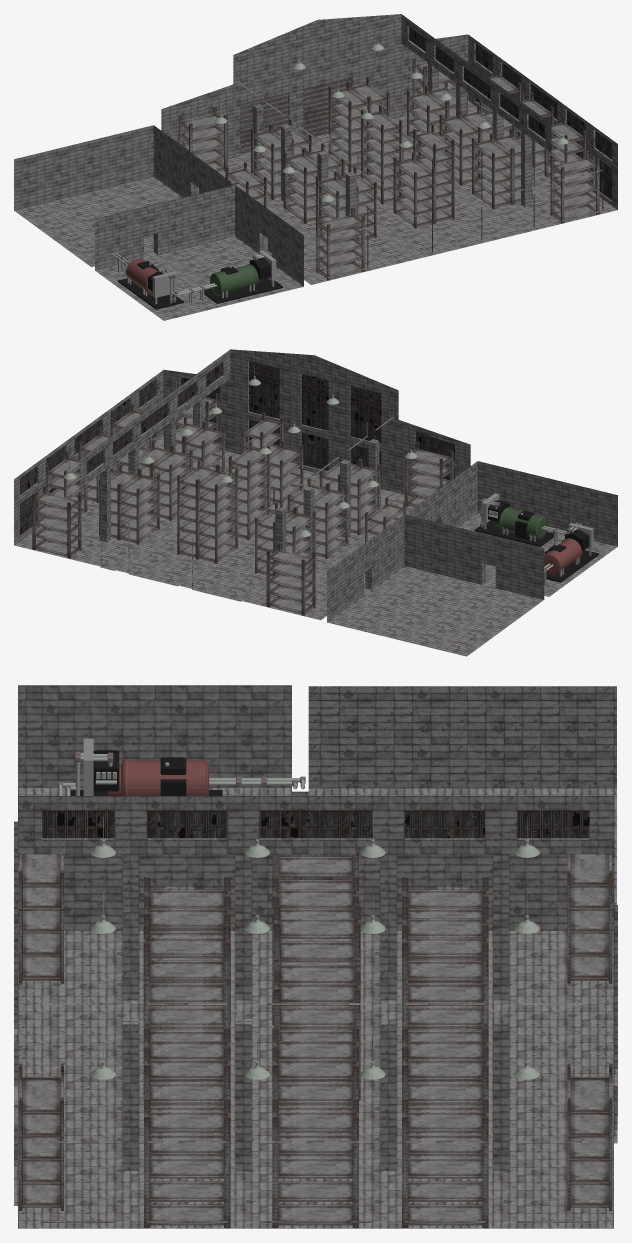
File: Eddy is genuinely unintelligent 222.glb
3 renders of one model, top to bottom at view 1: azimuth 30°, elevation 25°; view 2: azimuth 150°, elevation 25°; view 3: azimuth 270°, elevation 25°, orthographic. The views are drawn at different scales.
Parts seen in each view (by area): view 1: Warehouse-col.010, Generator-col.122, Warehouse-col.014, Generator-col.129, Generator-col.199, Warehouse-col.017, Generator-col.192, Generator-col.197, Warehouse-col.018, Warehouse-col.016, Warehouse-col.015, Shelving_Unit_Base_Tall-col.028 (+15 smaller); view 2: Warehouse-col.010, Generator-col.122, Generator-col.192, Warehouse-col.012, Generator-col.129, Warehouse-col.015, Warehouse-col.016, Generator-col.199, Warehouse-col.018, Warehouse-col.017, Shelving_Unit_Base_Tall-col.028, Shelving_Unit_Base_Small-col.072 (+14 smaller); view 3: Warehouse-col.010, Warehouse-col.012, Warehouse-col.014, Warehouse-col.013, Warehouse-col.011, Generator-col.192, Warehouse-col.016, Warehouse-col.018, Warehouse-col.017, Warehouse-col.015, Shelving_Unit_Base_Tall-col.029, Shelving_Unit_Small-col.294 (+74 smaller).
Part boxes in pixels (bbox=[...]): Warehouse-col.010: bbox=[14, 14, 617, 320]; Generator-col.122: bbox=[210, 264, 263, 295]; Warehouse-col.014: bbox=[521, 131, 531, 206]; Generator-col.129: bbox=[204, 278, 282, 303]; Generator-col.199: bbox=[118, 278, 183, 309]; Warehouse-col.017: bbox=[281, 124, 291, 201]; Generator-col.192: bbox=[126, 259, 157, 295]; Generator-col.197: bbox=[152, 271, 177, 297]; Warehouse-col.018: bbox=[345, 172, 356, 238]; Warehouse-col.016: bbox=[252, 103, 263, 179]; Warehouse-col.015: bbox=[317, 151, 328, 228]; Shelving_Unit_Base_Tall-col.028: bbox=[413, 131, 454, 152]; Warehouse-col.010: bbox=[14, 349, 617, 656]; Generator-col.122: bbox=[494, 507, 547, 539]; Generator-col.192: bbox=[544, 538, 582, 575]; Warehouse-col.012: bbox=[100, 466, 110, 542]; Generator-col.129: bbox=[474, 520, 553, 546]; Warehouse-col.015: bbox=[340, 460, 350, 537]; Warehouse-col.016: bbox=[275, 507, 286, 574]; Generator-col.199: bbox=[546, 550, 598, 582]; Warehouse-col.018: bbox=[368, 439, 379, 514]; Warehouse-col.017: bbox=[303, 486, 314, 563]; Shelving_Unit_Base_Tall-col.028: bbox=[242, 419, 283, 439]; Shelving_Unit_Base_Small-col.072: bbox=[32, 493, 80, 509]; Warehouse-col.010: bbox=[14, 685, 617, 1228]; Warehouse-col.012: bbox=[493, 1018, 509, 1170]; Warehouse-col.014: bbox=[122, 1018, 138, 1170]; Warehouse-col.013: bbox=[380, 1018, 396, 1170]; Warehouse-col.011: bbox=[235, 1018, 251, 1170]; Generator-col.192: bbox=[108, 759, 209, 795]; Warehouse-col.016: bbox=[493, 854, 509, 1000]; Warehouse-col.018: bbox=[122, 854, 138, 1000]; Warehouse-col.017: bbox=[380, 854, 396, 1000]; Warehouse-col.015: bbox=[235, 854, 251, 1000]; Shelving_Unit_Base_Tall-col.029: bbox=[274, 941, 360, 962]; Shelving_Unit_Small-col.294: bbox=[144, 908, 230, 929].
Size of the model in its own units: 81.56 by 20.1 by 47.03.
Materials: 14 (7 with a texture image).
